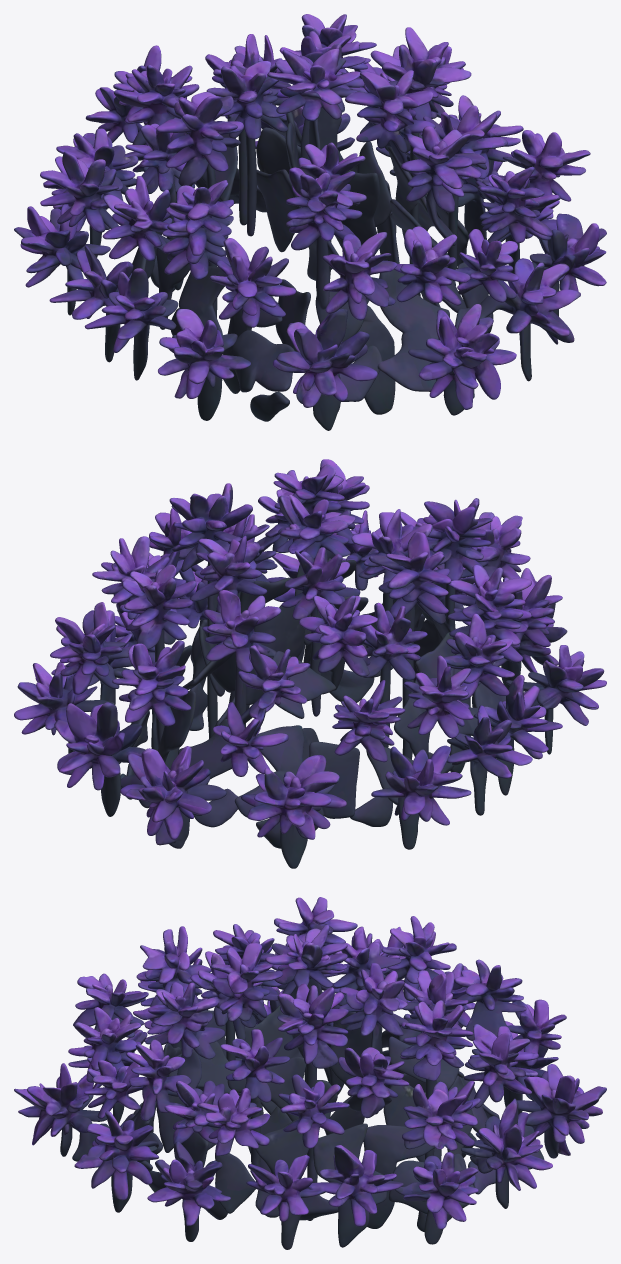
The model's file is bush.opt.glb.
The picture shows the model from 3 angles, top to bottom: view 1: azimuth 30°, elevation 25°; view 2: azimuth 150°, elevation 25°; view 3: azimuth 270°, elevation 25°; orthographic projection. The views are drawn at different scales.
Visible parts, largest first — view 1: tripo_node_8f2920a1-68ba-4193-b703-a688e18b33a9; view 2: tripo_node_8f2920a1-68ba-4193-b703-a688e18b33a9; view 3: tripo_node_8f2920a1-68ba-4193-b703-a688e18b33a9.
Part boxes in pixels (x1,y1,x2,y2): tripo_node_8f2920a1-68ba-4193-b703-a688e18b33a9: [14, 14, 606, 430]; tripo_node_8f2920a1-68ba-4193-b703-a688e18b33a9: [14, 459, 606, 868]; tripo_node_8f2920a1-68ba-4193-b703-a688e18b33a9: [14, 897, 606, 1249].
Bounding box in the file's own units: 0.7936 × 0.4645 × 0.9999.
1 material, 1 textured.
